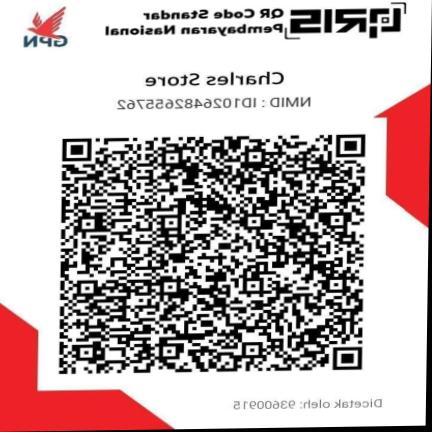Barcode_Asli: (36, 116, 387, 392)
